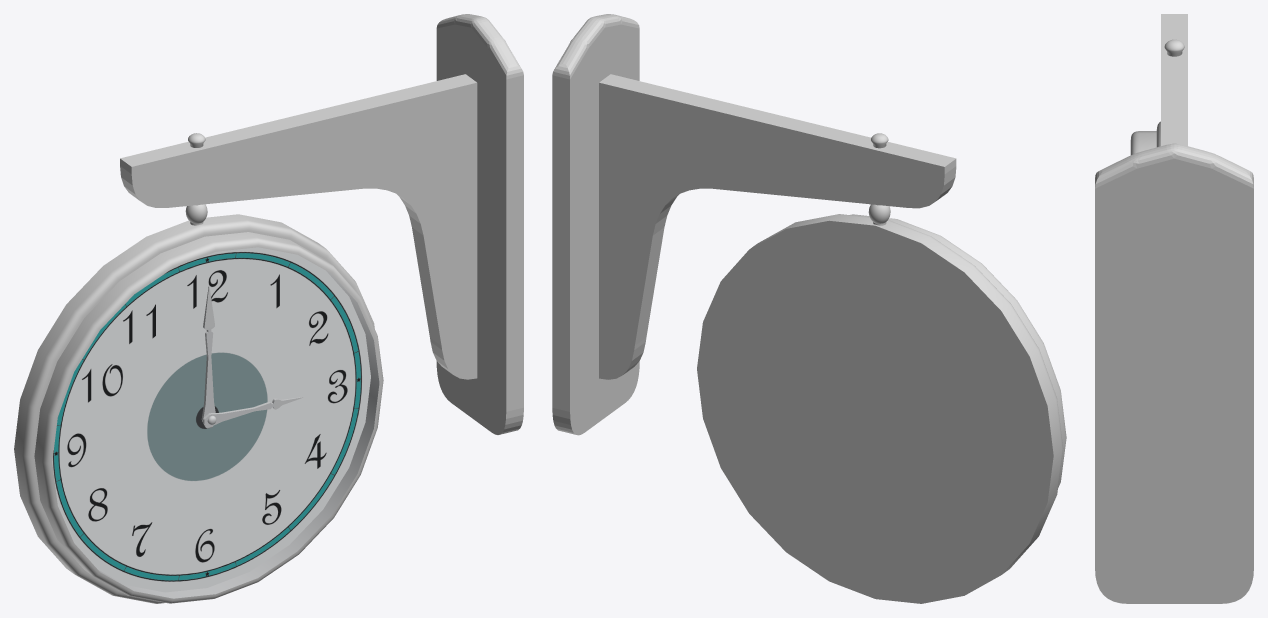
File: Relógio.fbx
3 renders of one model, left to right at view 1: azimuth 30°, elevation 25°; view 2: azimuth 150°, elevation 25°; view 3: azimuth 270°, elevation 25°, orthographic. The views are drawn at different scales.
Parts seen in each view (by area): view 1: RelógioTextura, RelógioSuporte, Relógio, RelógioPonteiroG, RelógioPonteiroP; view 2: Relógio, RelógioSuporte; view 3: RelógioSuporte, Relógio, RelógioSuportePino.
Boxes of the visible parts, left/top/right/bottom form: RelógioTextura: left=52, top=247, right=370, bottom=592; RelógioSuporte: left=120, top=14, right=523, bottom=434; Relógio: left=14, top=214, right=383, bottom=603; RelógioPonteiroG: left=201, top=286, right=215, bottom=428; RelógioPonteiroP: left=203, top=397, right=302, bottom=426; Relógio: left=697, top=214, right=1066, bottom=603; RelógioSuporte: left=552, top=14, right=956, bottom=435; RelógioSuporte: left=1095, top=14, right=1253, bottom=603; Relógio: left=1130, top=121, right=1160, bottom=154; RelógioSuportePino: left=1164, top=39, right=1184, bottom=56.
Size of the model in its own units: 46.36 by 47.78 by 11.88.
